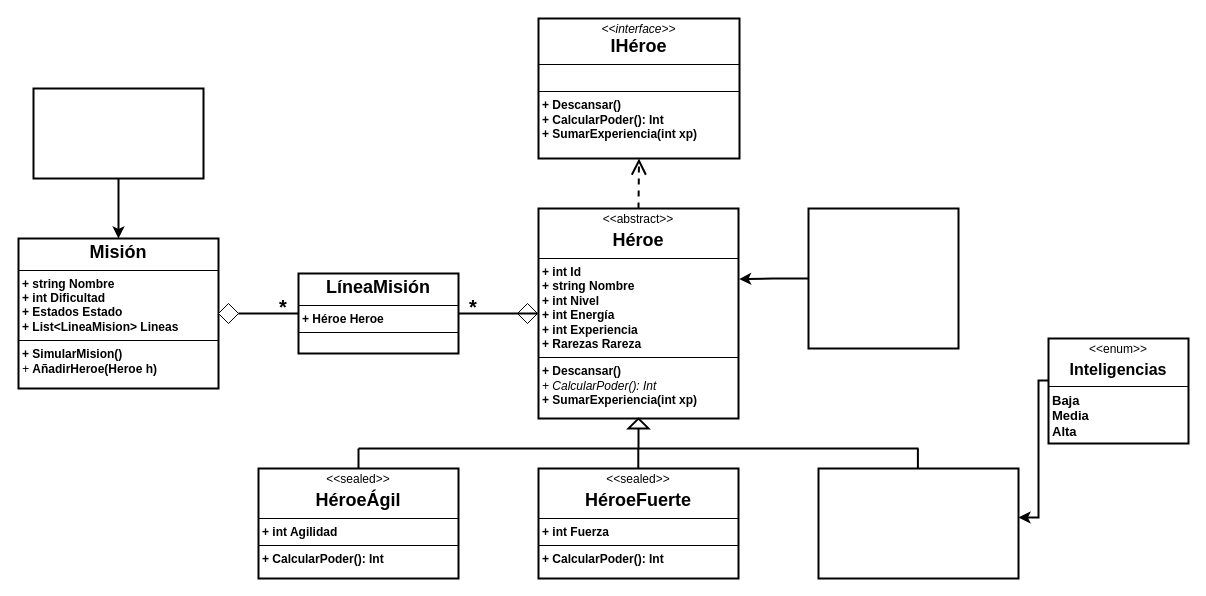
Some shapes in this 1206 by 596 pixel diagram are drawn without their labels. The centre of each missing label's shape, as x and y in pixels:
"<<enum>> Estados Pendiente Completada" belongs at [118,133].
"<<enum>> Rarezas Común Especial Raro Épico Legendiario" belongs at [883,278].
"<<sealed>> HéroeInteligente + Inteligencias Inteligencia + CalcularPoder(): Int" belongs at [918,523].
